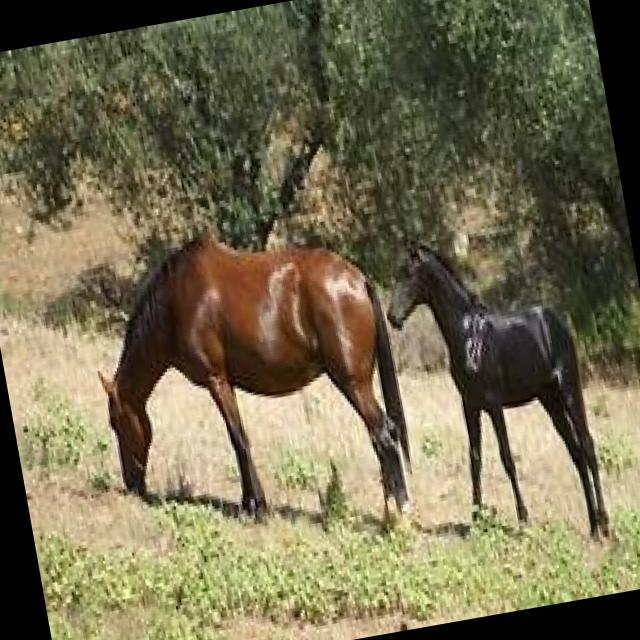animal: (76, 196, 424, 572), (374, 208, 616, 574)
